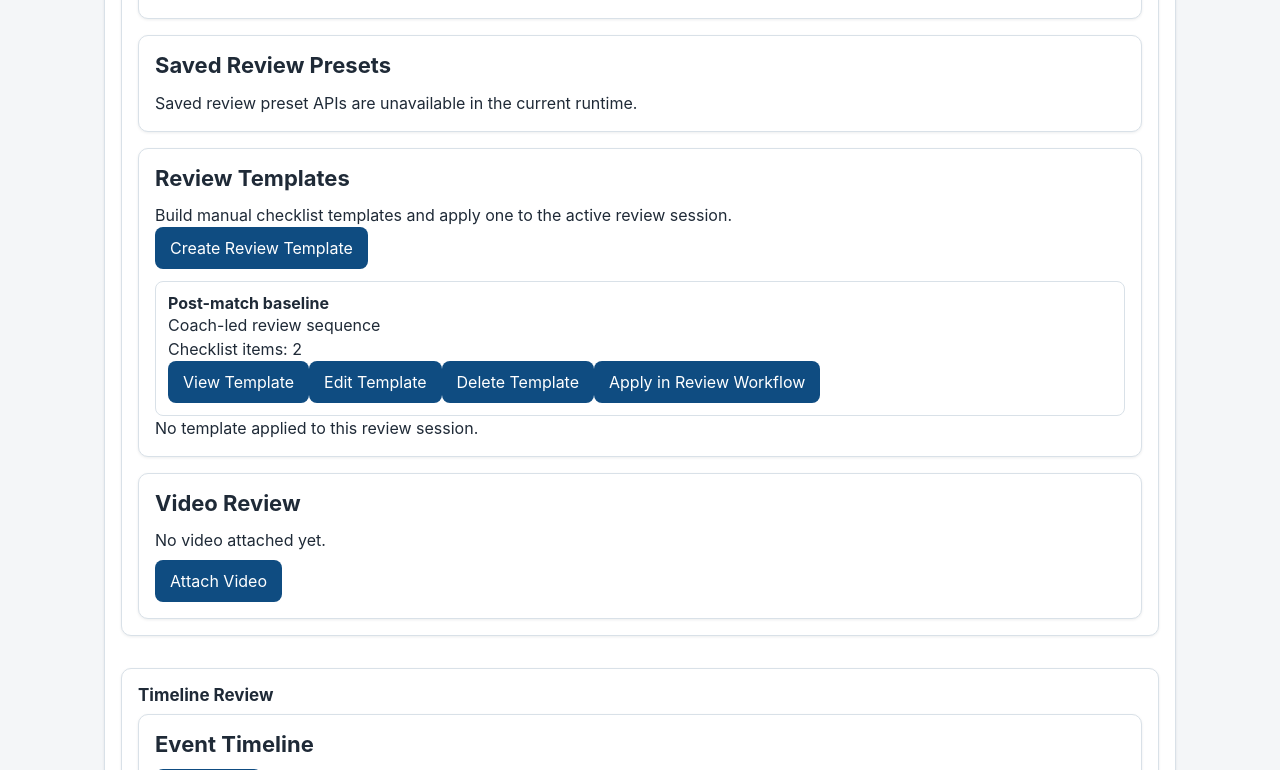
Review template UI › handles not-found responses while loading selected template details
This screenshot has width=1280, height=770.
(page scrolled)
Expected: the heading "Review Templates" is shown, [155,164,350,190]
Step 1. Click the button "View Template" → (238, 382), box [168,361,309,403]
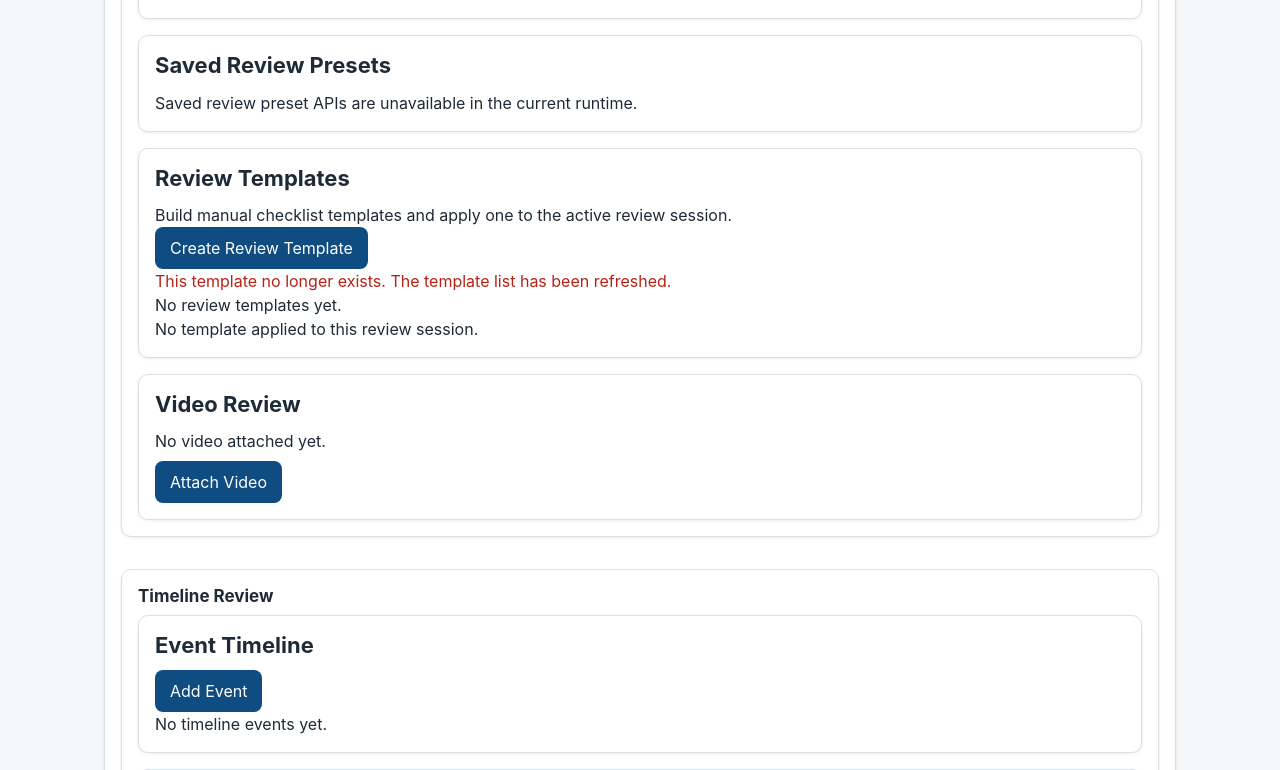
Expected: the text "This template no longer exists. The template list has been refreshed." is shown, [155,271,672,291]
